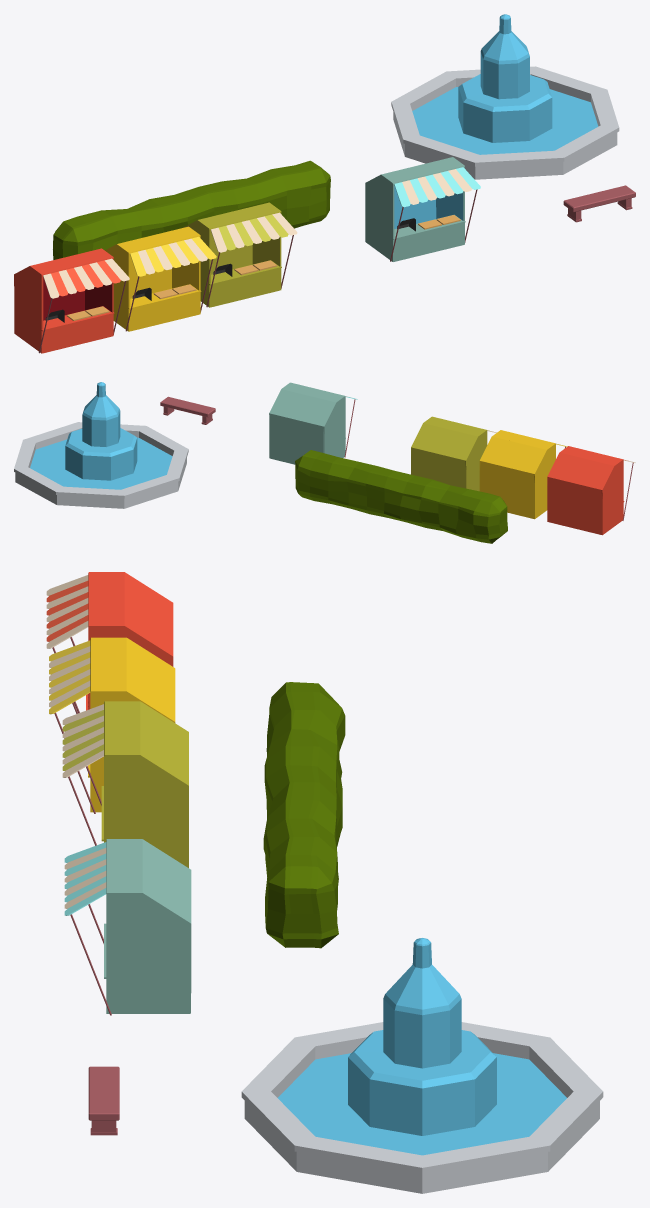
3 views of the same model, one above another, from view 1: azimuth 30°, elevation 25°; view 2: azimuth 150°, elevation 25°; view 3: azimuth 270°, elevation 25° (orthographic). The views are drawn at different scales.
Visible parts, largest first — view 1: Fountain, Hecke, bluestand, redstand, yellowstand, greenstand, bench; view 2: Fountain, Hecke, redstand, bluestand, yellowstand, greenstand, bench; view 3: Fountain, Hecke, bluestand, greenstand, yellowstand, redstand, bench.
Part boxes in pixels (left/top/right/bottom): Fountain: left=391, top=14, right=619, bottom=179; Hecke: left=53, top=160, right=330, bottom=259; bluestand: left=365, top=157, right=480, bottom=261; redstand: left=14, top=248, right=129, bottom=353; yellowstand: left=105, top=226, right=216, bottom=331; greenstand: left=183, top=202, right=297, bottom=307; bench: left=563, top=185, right=635, bottom=222; Fountain: left=14, top=382, right=188, bottom=508; Hecke: left=295, top=450, right=507, bottom=543; redstand: left=547, top=446, right=635, bottom=535; bluestand: left=269, top=382, right=357, bottom=464; yellowstand: left=479, top=430, right=567, bottom=519; greenstand: left=411, top=416, right=496, bottom=491; bench: left=160, top=396, right=215, bottom=424; Fountain: left=241, top=938, right=603, bottom=1193; Hecke: left=263, top=682, right=345, bottom=948; bluestand: left=64, top=839, right=191, bottom=1015; greenstand: left=62, top=701, right=188, bottom=867; yellowstand: left=49, top=637, right=175, bottom=813; redstand: left=46, top=572, right=173, bottom=713; bench: left=88, top=1066, right=119, bottom=1135.
Bounding box in the file's own units: 4083 × 688 × 1892.
